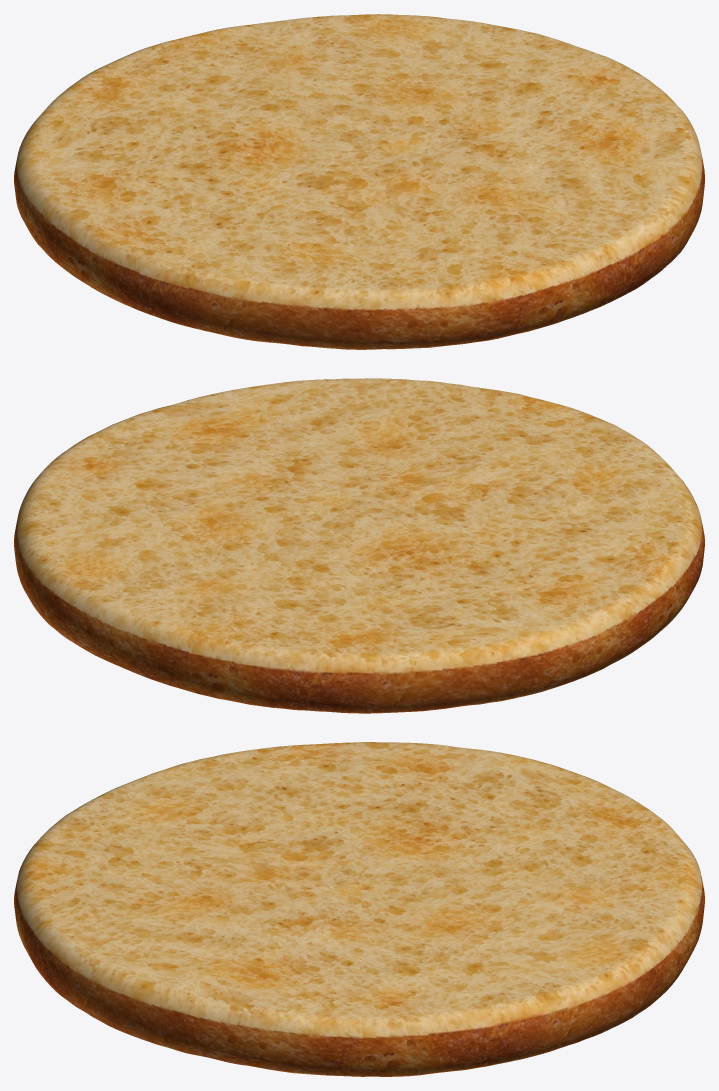
File: bun-bottom.glb
3 views of the same model, one above another, from view 1: azimuth 30°, elevation 25°; view 2: azimuth 150°, elevation 25°; view 3: azimuth 270°, elevation 25° (orthographic).
Visible parts, largest first — view 1: Lower bun; view 2: Lower bun; view 3: Lower bun.
Boxes of the visible parts, x1,y1,x2,y2 form: Lower bun: (14, 14, 704, 349); Lower bun: (14, 378, 704, 713); Lower bun: (14, 742, 704, 1076).
Bounding box in the file's own units: 2.42 × 0.247 × 2.42.
1 material, 1 textured.
